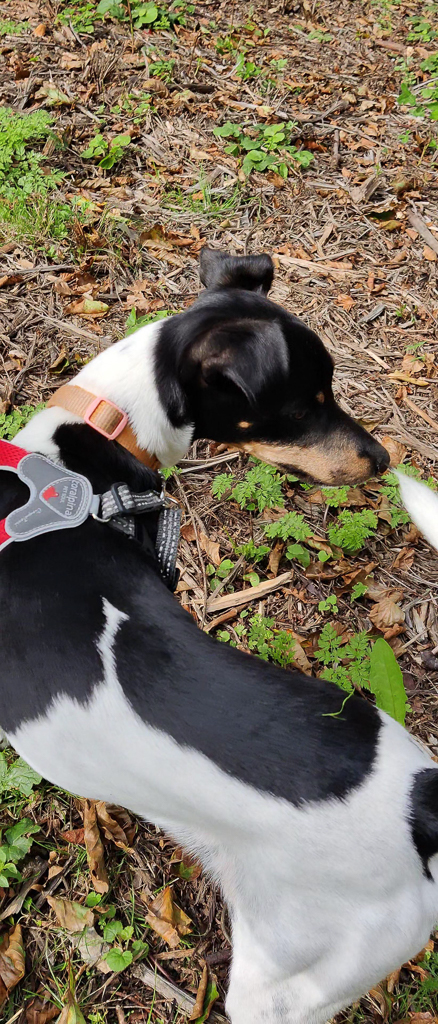Dog: (0, 244, 438, 1024)
